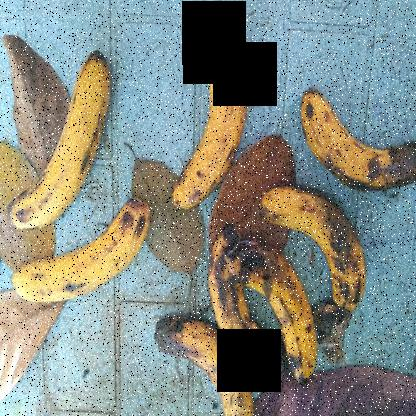overripe: (168, 3, 254, 216)
ripe: (1, 44, 119, 256), (3, 200, 160, 319)
rotten: (195, 230, 306, 406), (260, 178, 388, 328), (287, 81, 415, 229), (245, 236, 323, 384), (150, 311, 261, 415)
